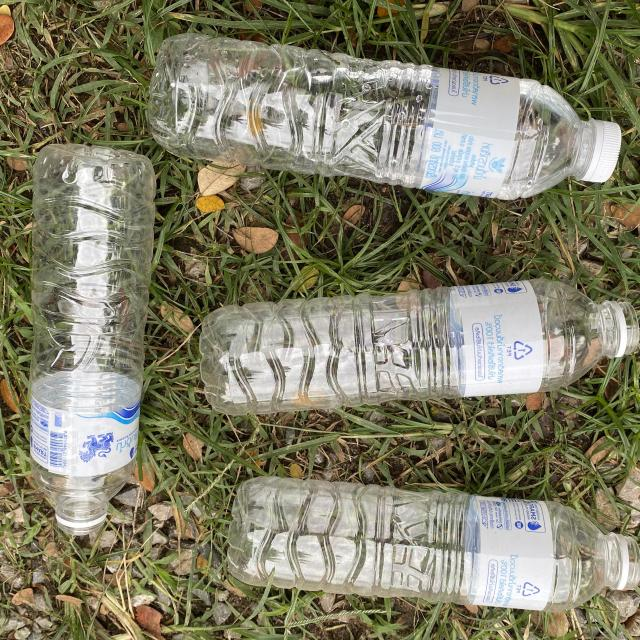plastik: (148, 34, 620, 200), (200, 279, 639, 415), (228, 478, 640, 611), (31, 144, 155, 535)
